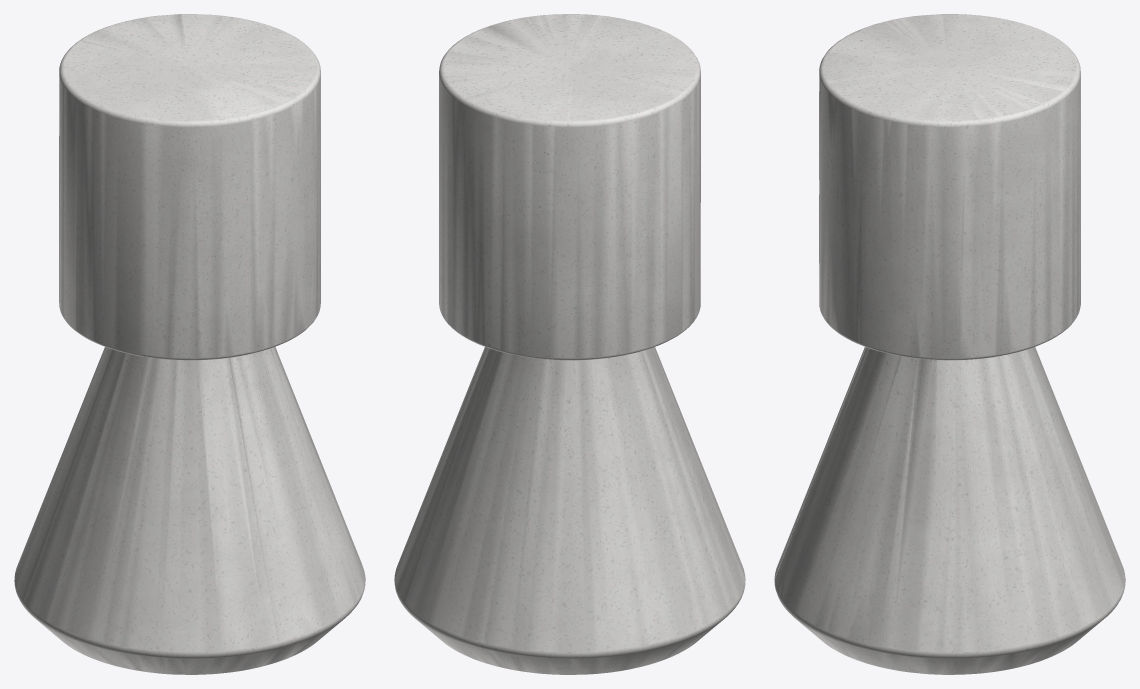
File: knight-white.glb
3 views of the same model, side by side, from view 1: azimuth 30°, elevation 25°; view 2: azimuth 150°, elevation 25°; view 3: azimuth 270°, elevation 25° (orthographic).
Visible parts, largest first — view 1: 05_jezdec_bila; view 2: 05_jezdec_bila; view 3: 05_jezdec_bila.
Part boxes in pixels (x1,y1,x2,y2): 05_jezdec_bila: (14, 14, 365, 674); 05_jezdec_bila: (394, 14, 745, 674); 05_jezdec_bila: (774, 14, 1125, 674).
Bounding box in the file's own units: 0.7666 × 1.32 × 0.7666.
Materials: 1 (1 with a texture image).
